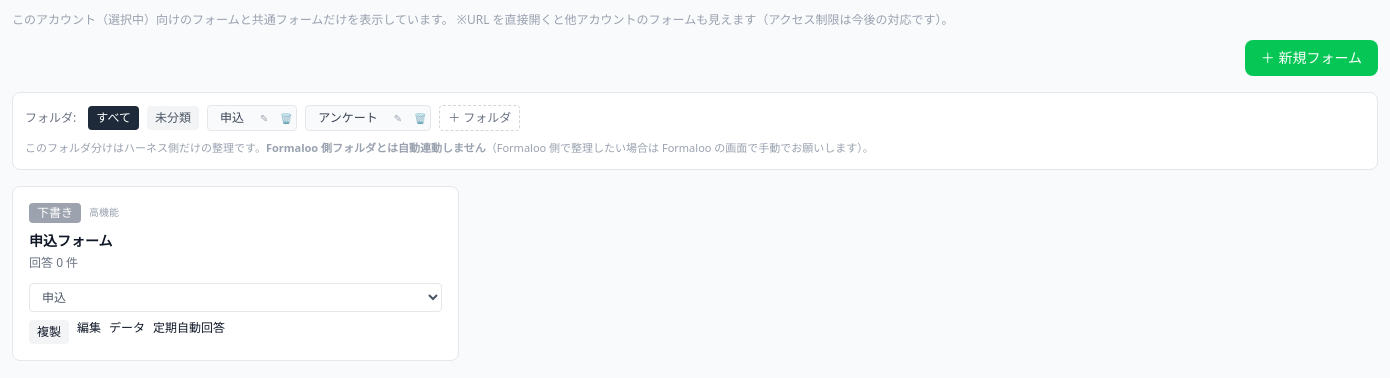
Test: フォーム一覧の複製操作 › 複製待ち中にフォルダを変えても、古い絞り結果で現在の一覧を上書きしない
Step 1. Click the button with test id "folder-item-folder-source" → coordinates (232, 118), box 212,106 -> 252,130
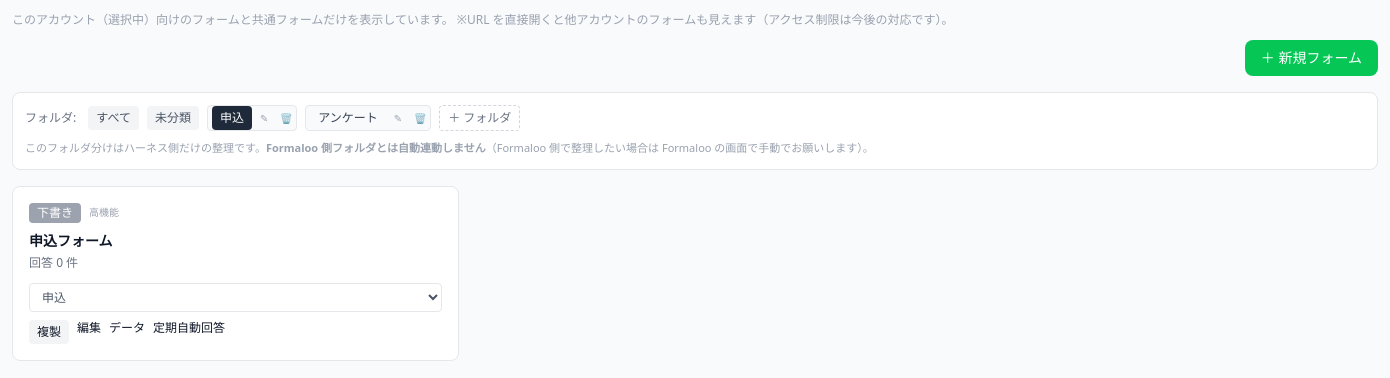
Expected: the element with test id "form-card-source-a" is shown, 12,186 -> 459,361
Step 2. Click the button with test id "duplicate-source-a" → coordinates (49, 332), box 29,320 -> 69,344
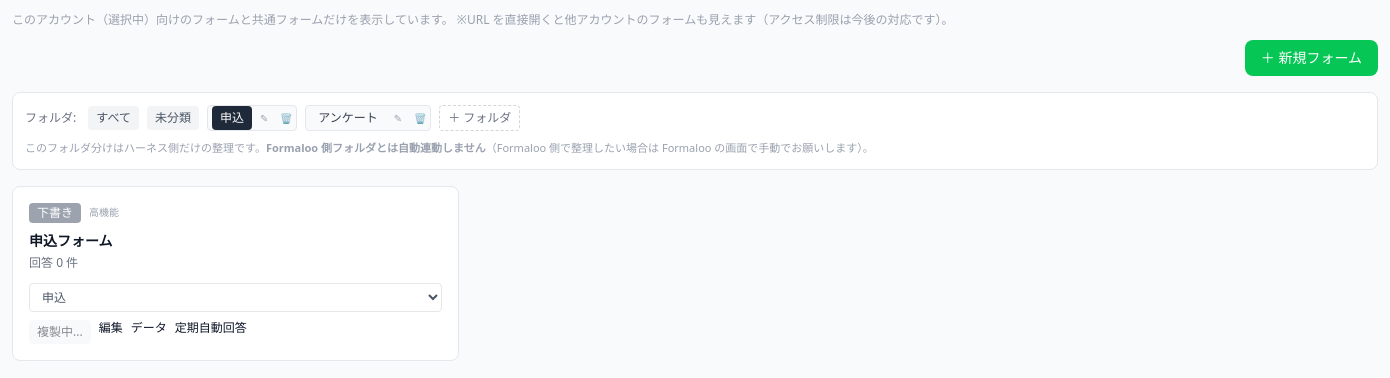
Step 3. Click the button with test id "folder-item-folder-other" → coordinates (348, 118), box 310,106 -> 386,130
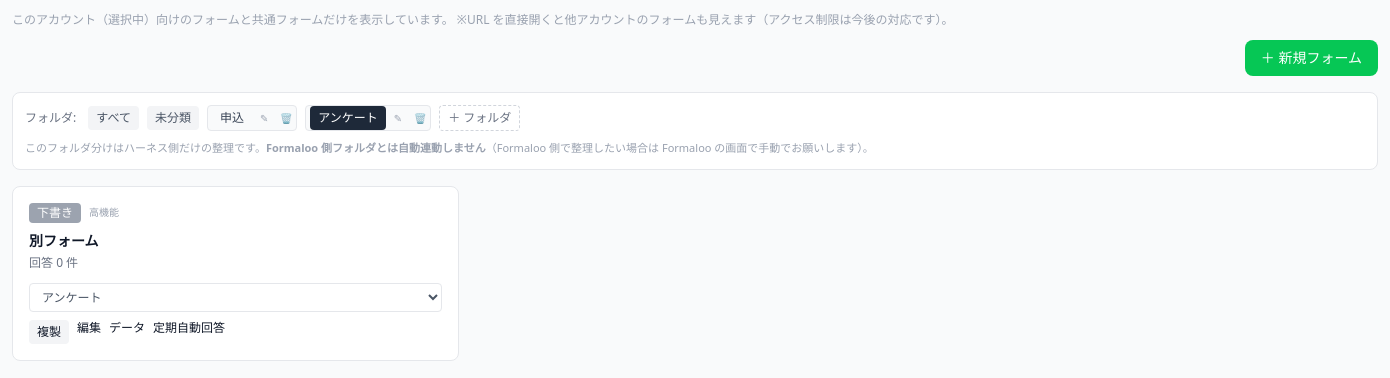
Expected: the element with test id "form-card-other-a" is shown, 12,186 -> 459,361
Expected: the element with test id "form-card-source-a" is gone
